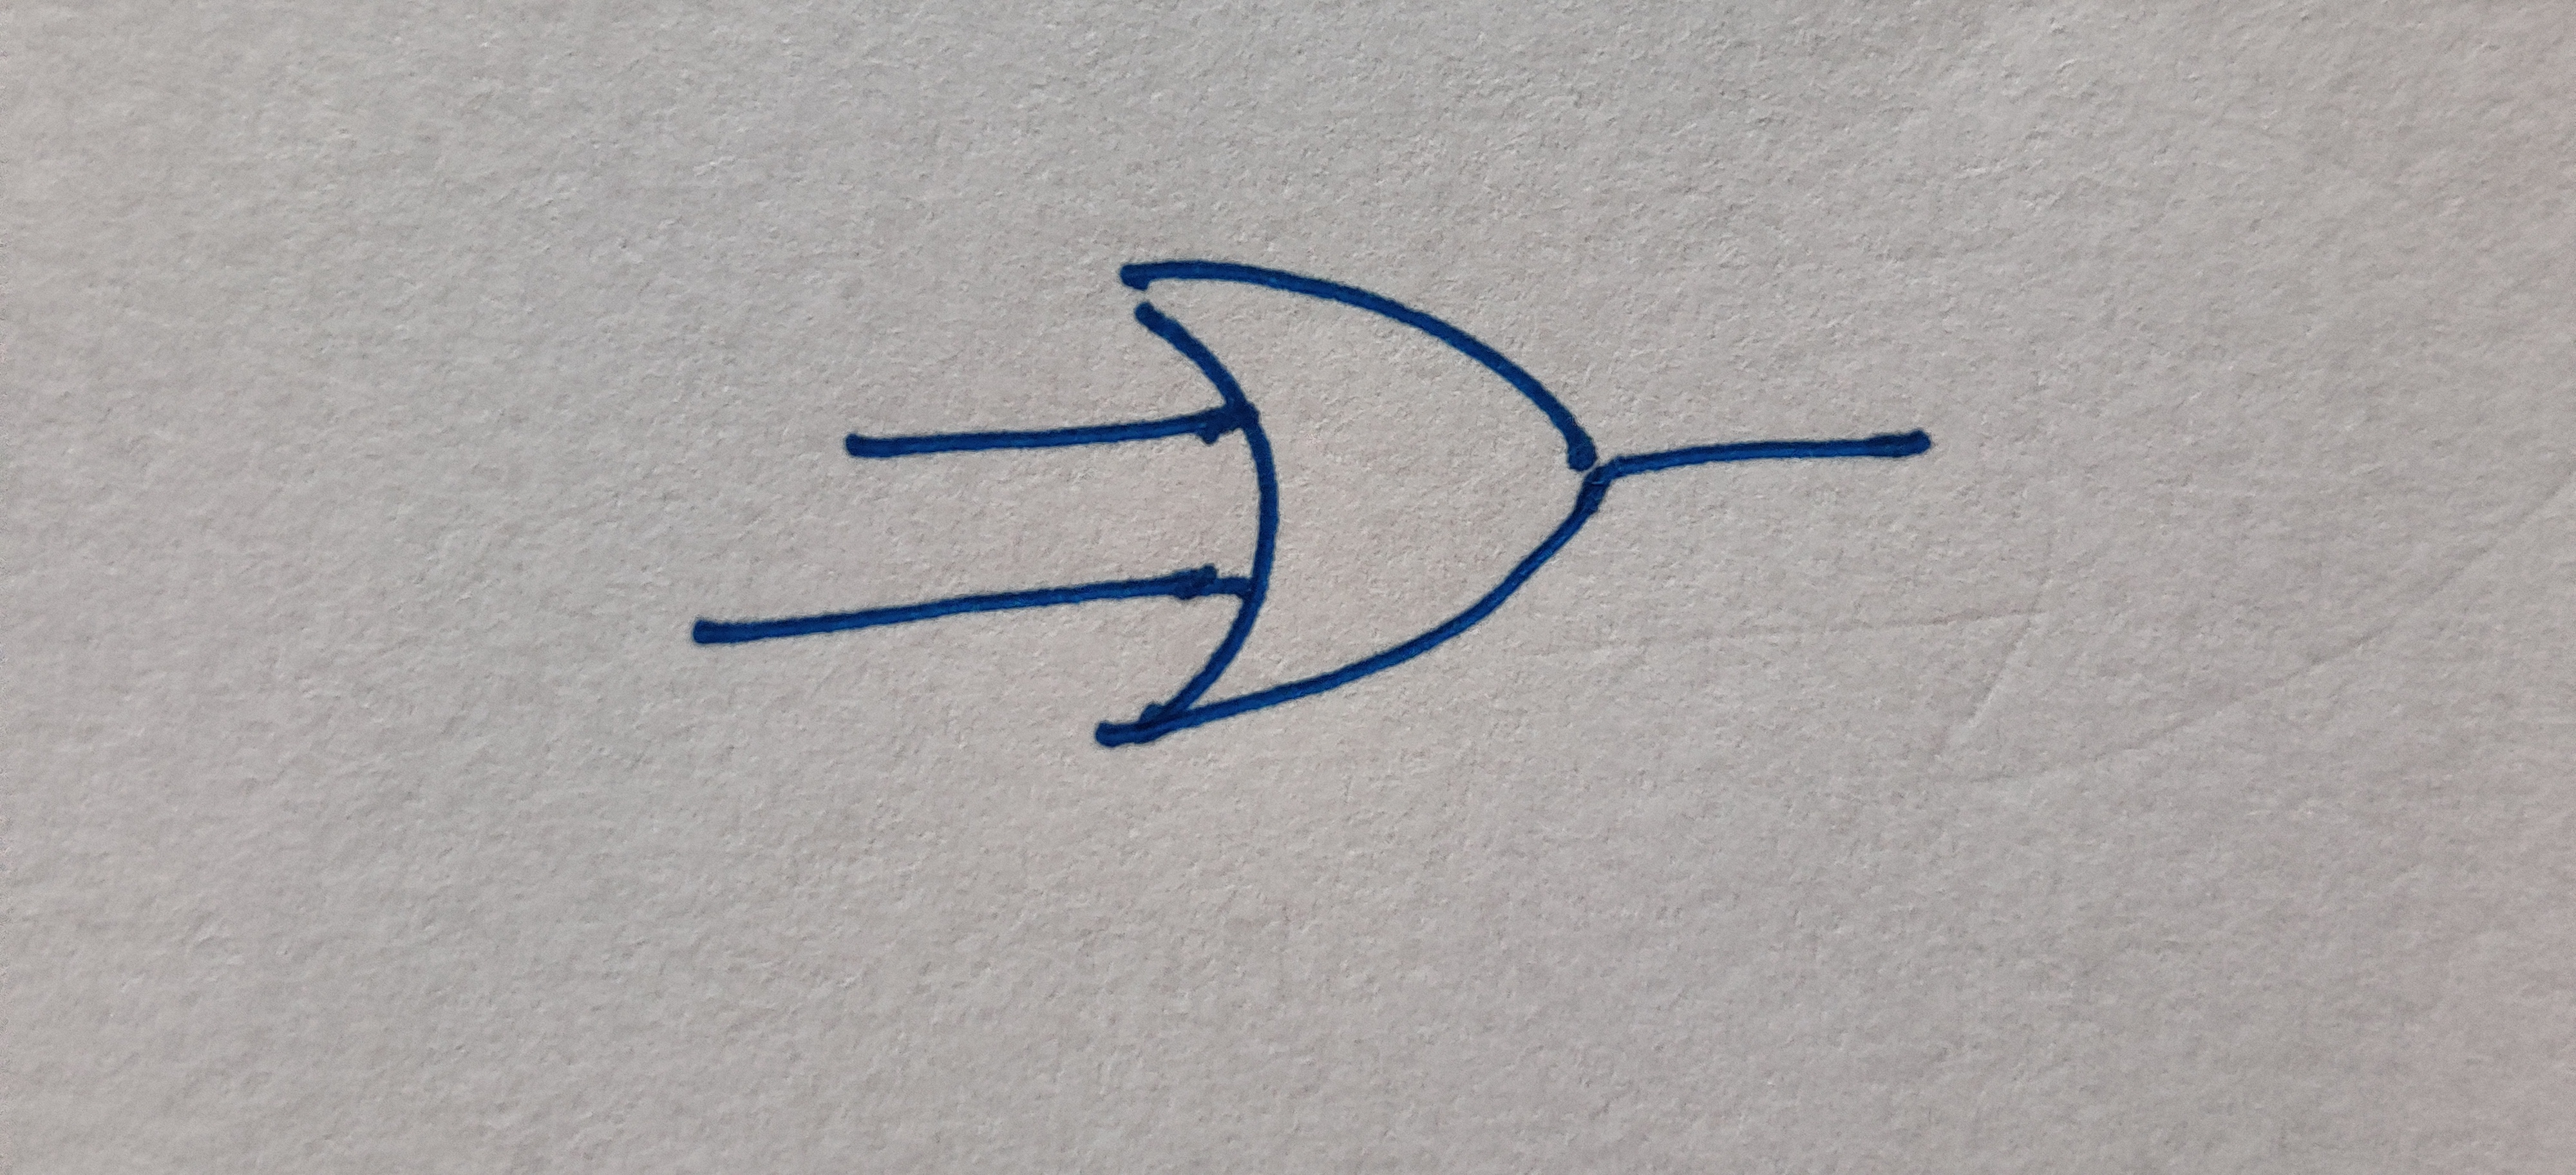or: (1096, 266, 1608, 753)
